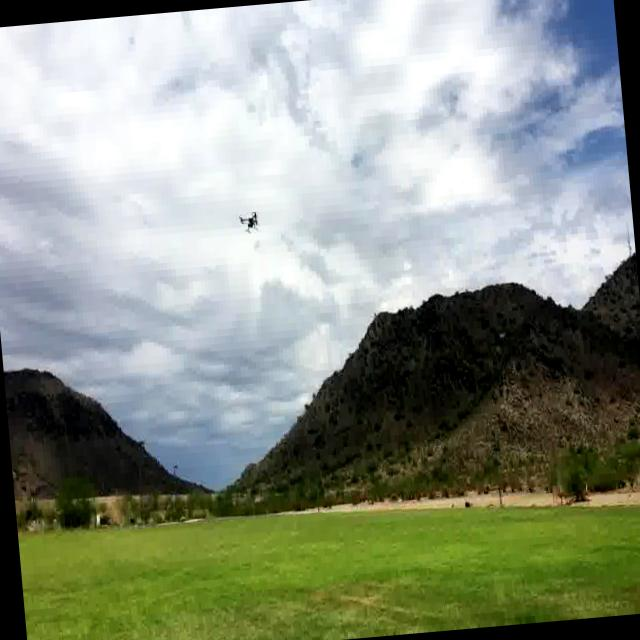drone: (236, 206, 259, 233)
